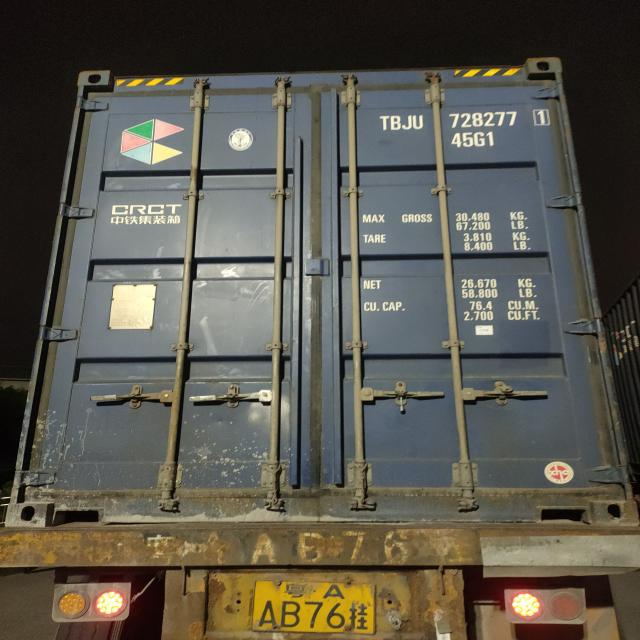seal: (397, 387, 408, 414)
